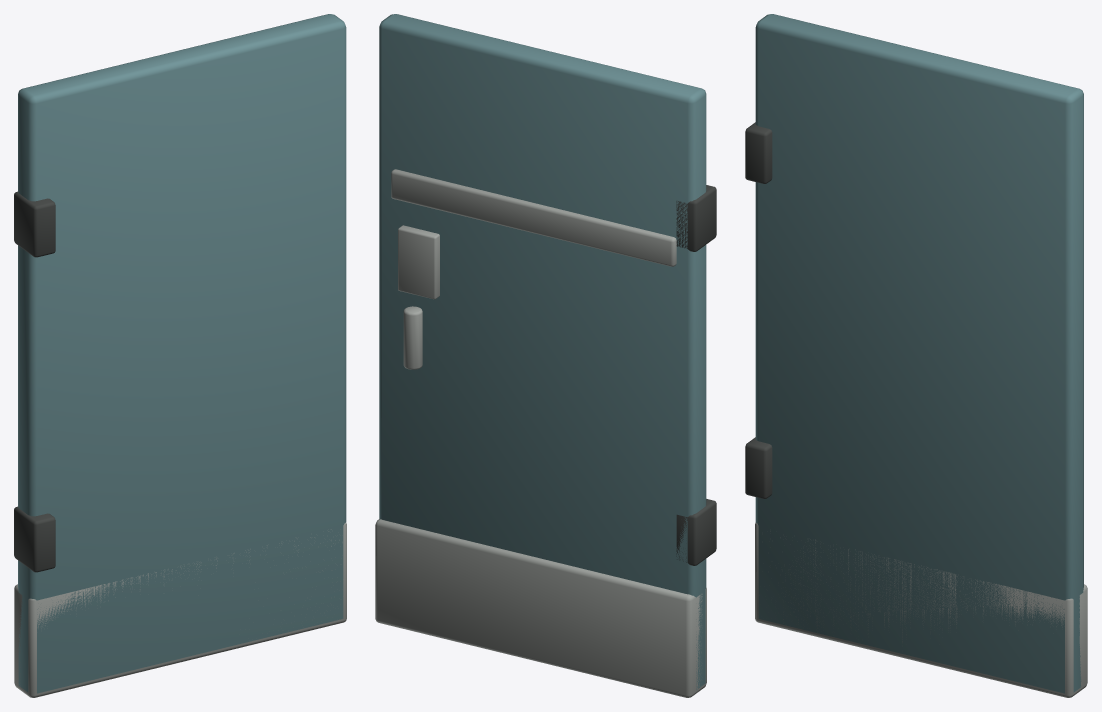
Rendered from hab_door_v4.glb.
3 views of the same model, side by side, from view 1: azimuth 30°, elevation 25°; view 2: azimuth 150°, elevation 25°; view 3: azimuth 330°, elevation 25° (orthographic).
Visible parts, largest first — view 1: HabDoor; view 2: HabDoor; view 3: HabDoor.
Part boxes in pixels (x1,y1,x2,y2): HabDoor: [14, 14, 346, 697]; HabDoor: [375, 14, 716, 697]; HabDoor: [745, 14, 1087, 697].
Size of the model in its own units: 1.17 by 2.1 by 0.2206.
